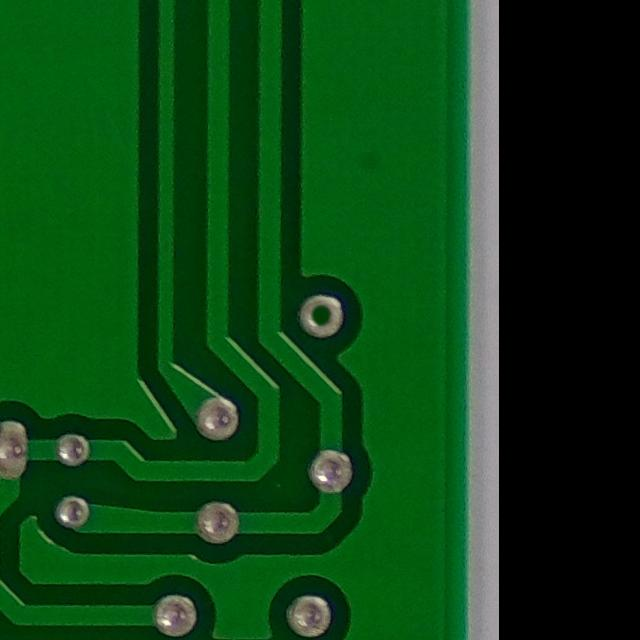missing_hole: (288, 289, 352, 351)
